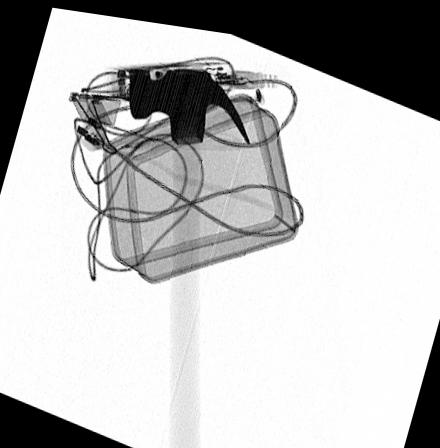Hammer: (128, 63, 252, 445)
